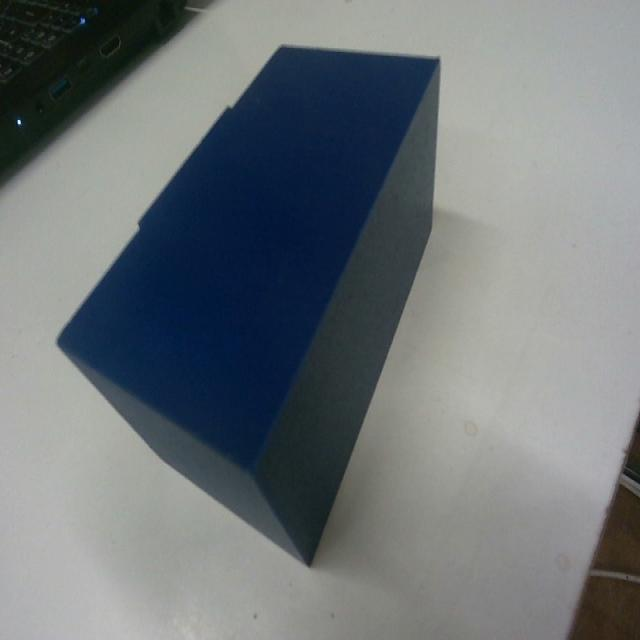Blue Cuboid: (55, 40, 442, 565)
